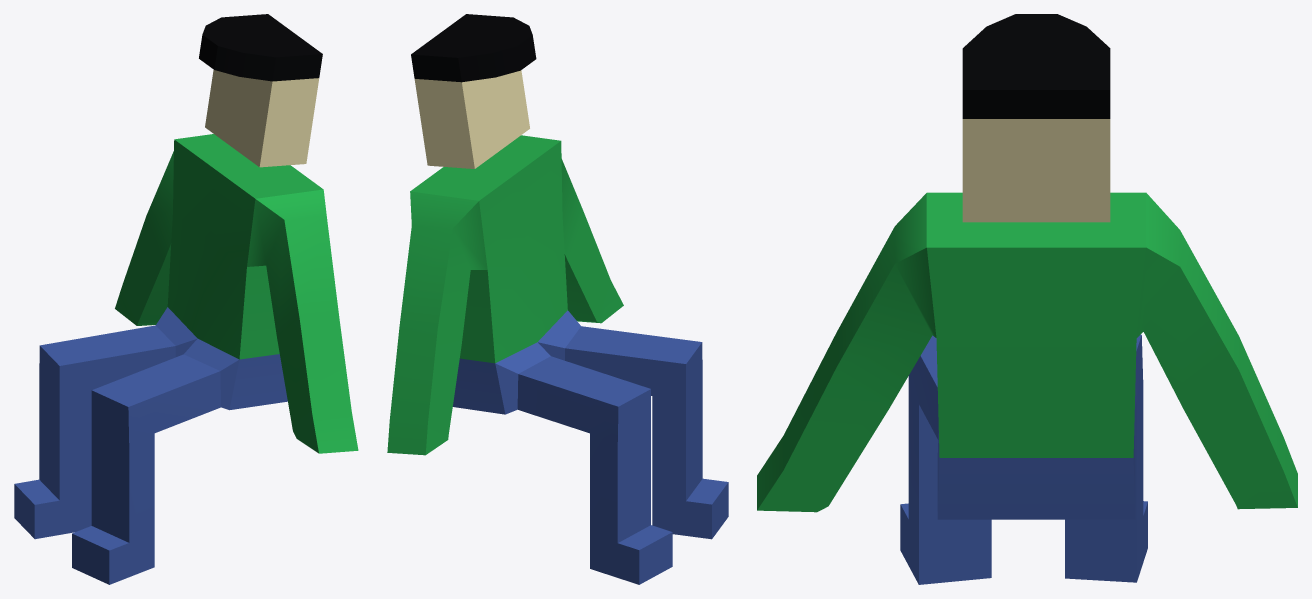
The model's file is kid.fbx.
3 views of the same model, side by side, from view 1: azimuth 30°, elevation 25°; view 2: azimuth 150°, elevation 25°; view 3: azimuth 270°, elevation 25° (orthographic). The views are drawn at different scales.
Parts seen in each view (by area): view 1: pCube3; view 2: pCube3; view 3: pCube3.
Boxes of the visible parts, x1,y1,x2,y2 form: pCube3: (14, 14, 358, 584); pCube3: (387, 14, 728, 584); pCube3: (757, 14, 1297, 584).
Size of the model in its own units: 6.08 by 11.08 by 8.53.
1 material, 1 textured.
